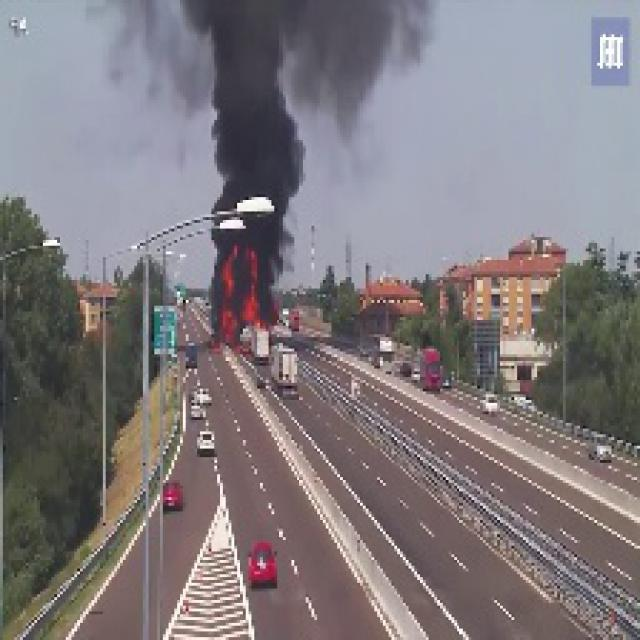fire: (212, 240, 268, 351)
